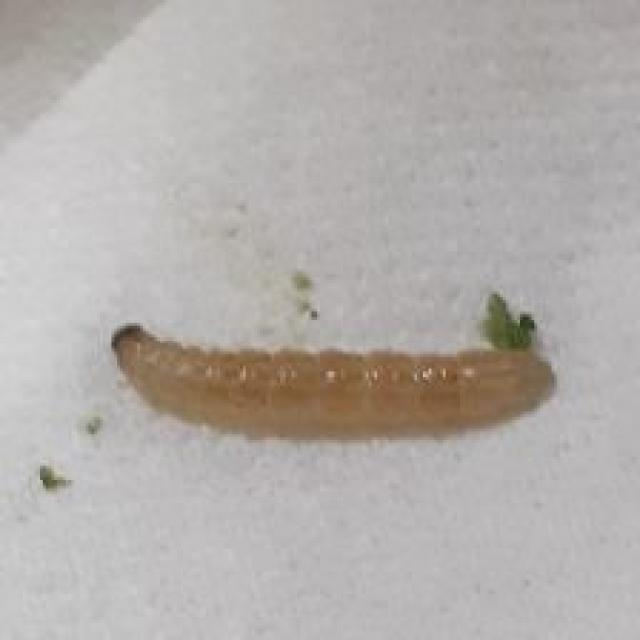white mucus: (102, 298, 560, 458)
